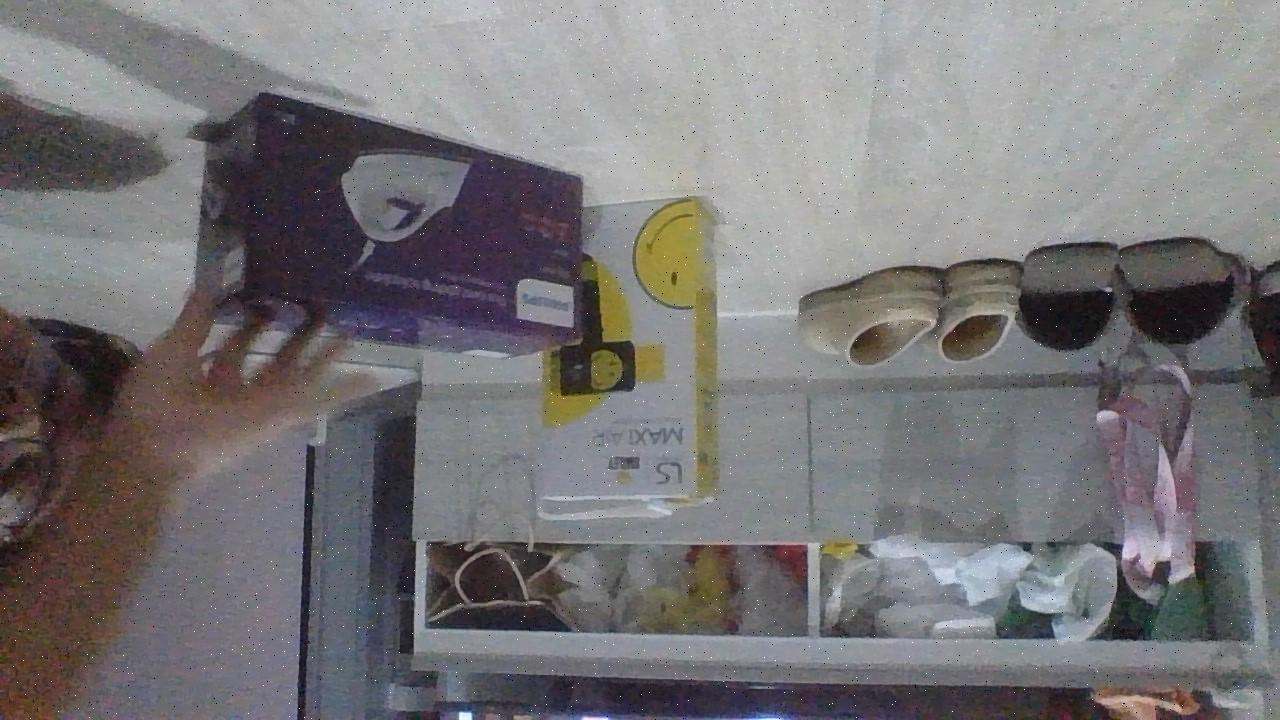Dryer: (531, 196, 725, 524)
IRON: (198, 90, 591, 366)
